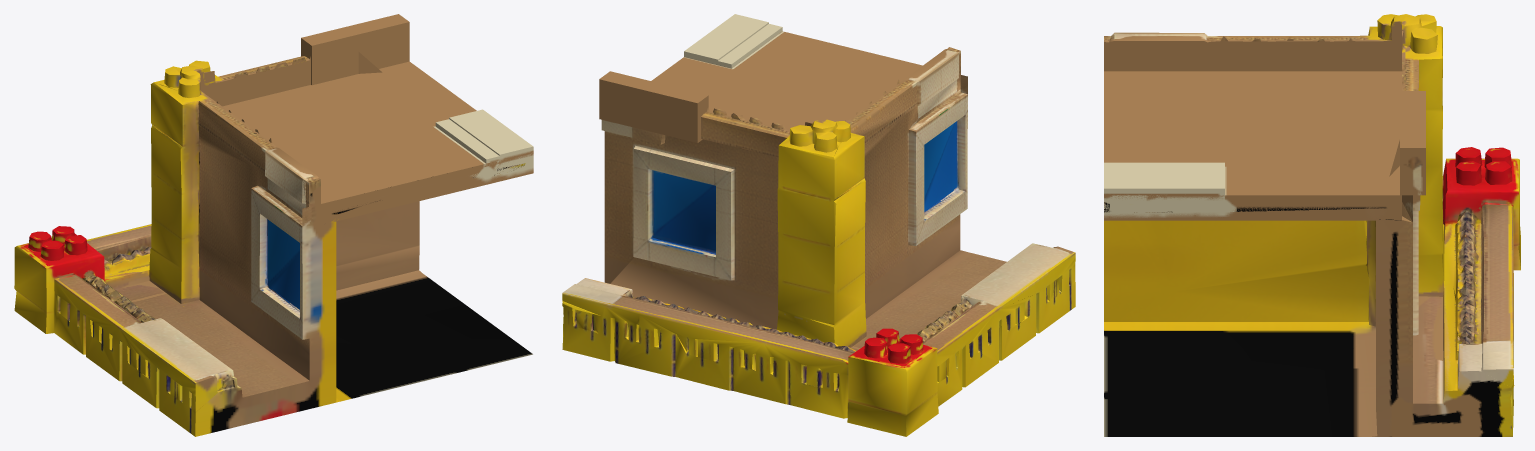
File: 15-topper-back-left.fbx
3 views of the same model, side by side, from view 1: azimuth 30°, elevation 25°; view 2: azimuth 150°, elevation 25°; view 3: azimuth 270°, elevation 25° (orthographic). The views are drawn at different scales.
Parts seen in each view (by area): view 1: topper-back-left; view 2: topper-back-left; view 3: topper-back-left.
Part boxes in pixels (x1=…): topper-back-left: x1=14, y1=14, x2=533, y2=436; topper-back-left: x1=562, y1=14, x2=1075, y2=436; topper-back-left: x1=1104, y1=14, x2=1520, y2=436.
Bounding box in the file's own units: 5115 × 3458 × 4481.
1 material, 1 textured.
